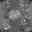people: (9, 10, 21, 20)
